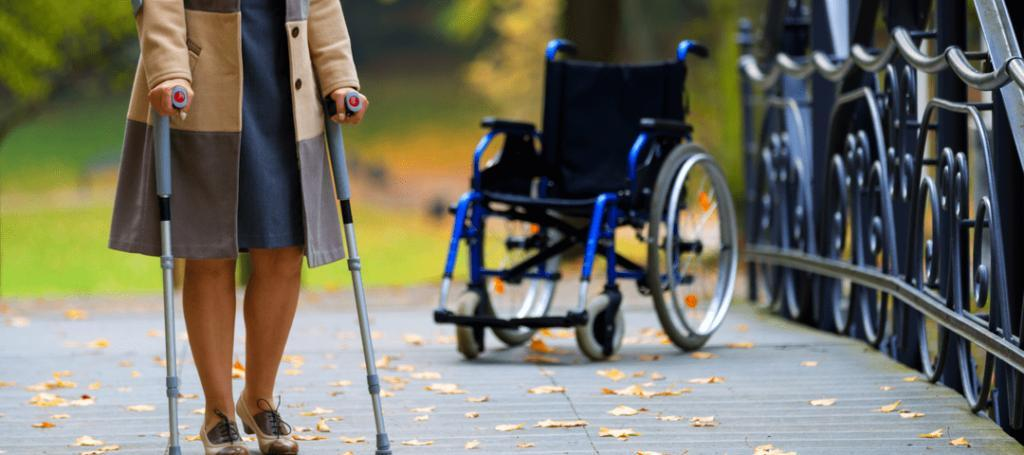crutches: (118, 0, 397, 455)
